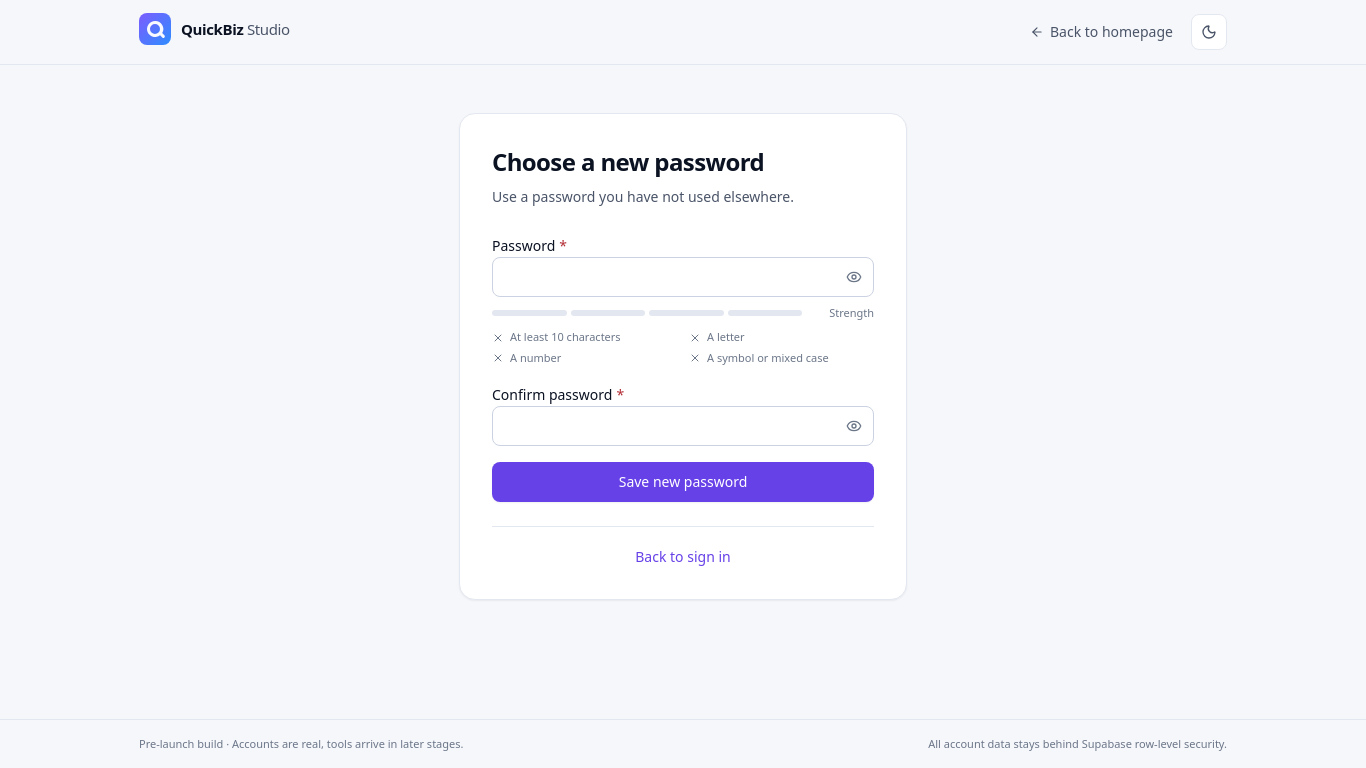
Test case: ResetPasswordPage › updates the password when a recovery session exists
Type "brand-new-pass-9" into the password field labelled "Password*" at [683, 277], box [492,257,874,297]
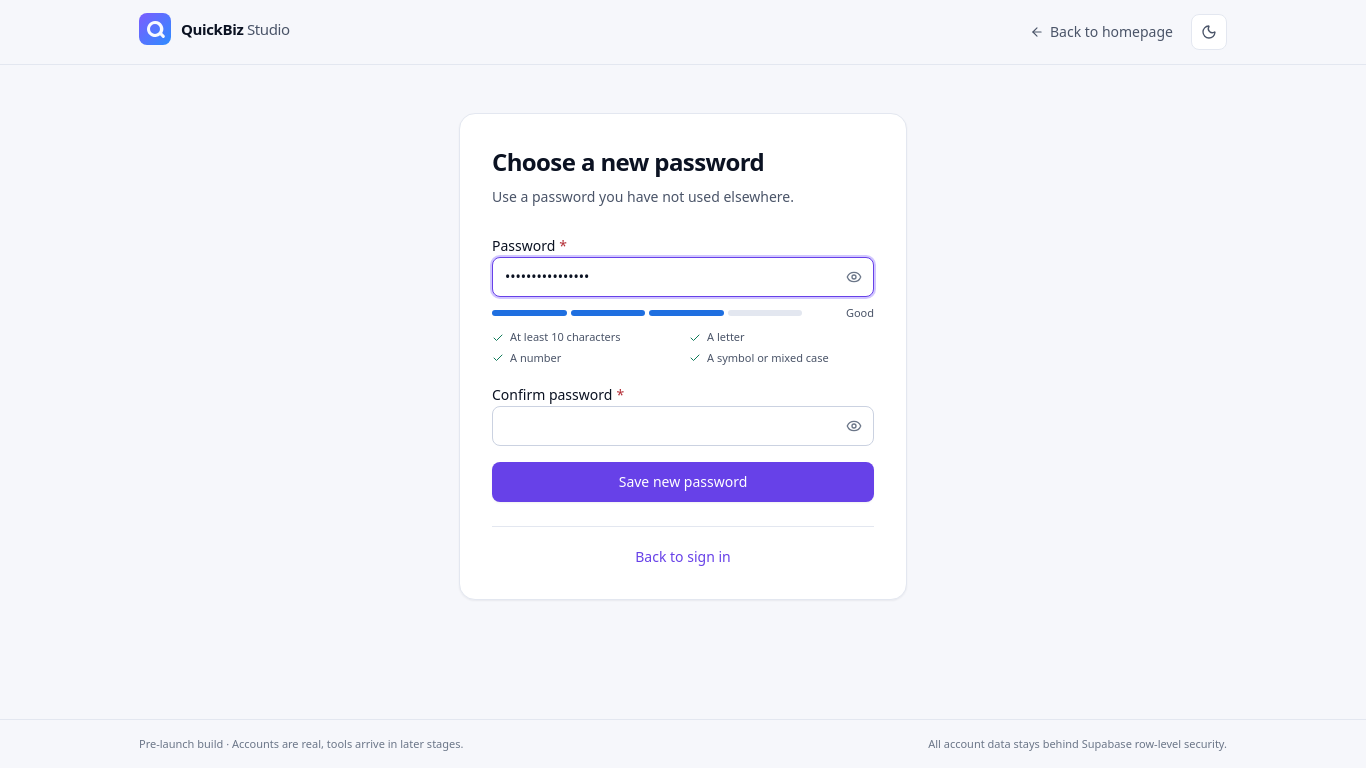
Type "brand-new-pass-9" into the password field labelled "Confirm password*" at [683, 426], box [492,406,874,446]
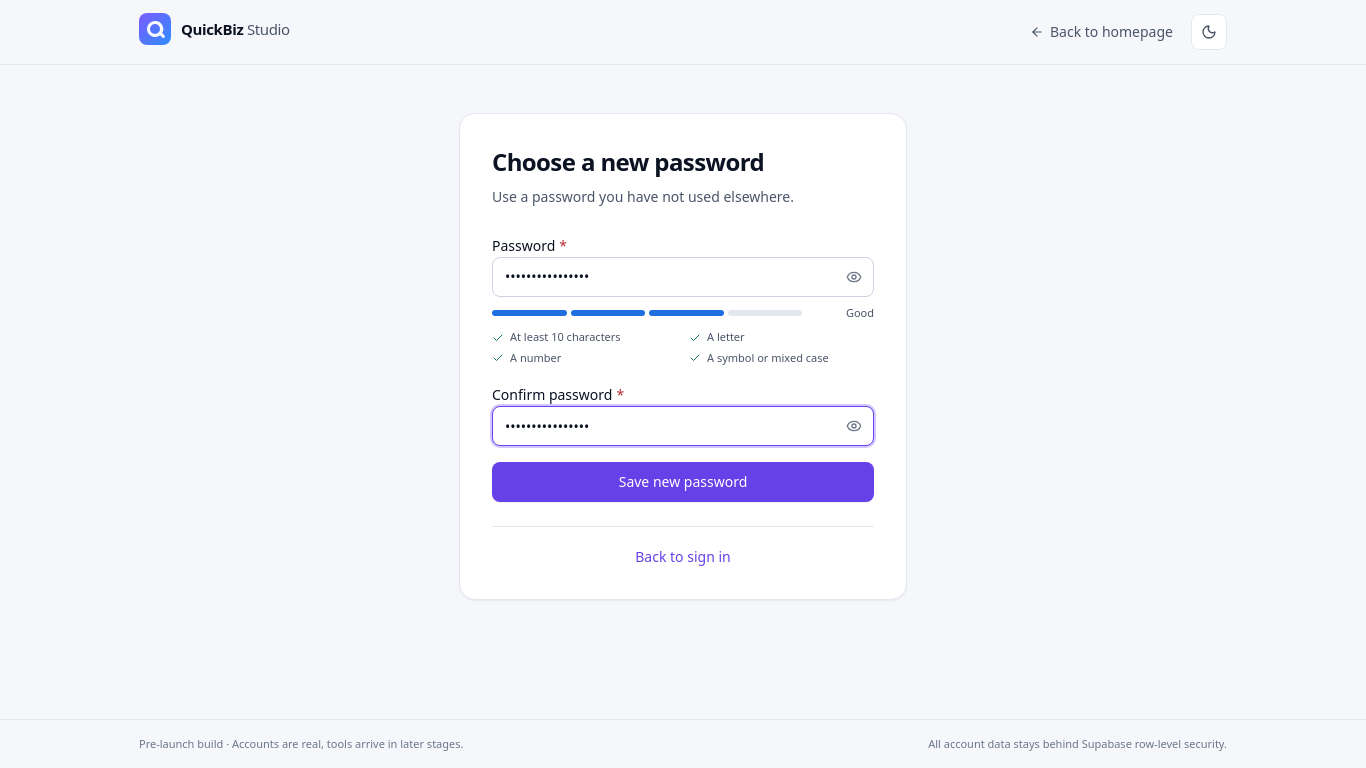
Click the button "Save new password" at [683, 482], box [492,462,874,502]
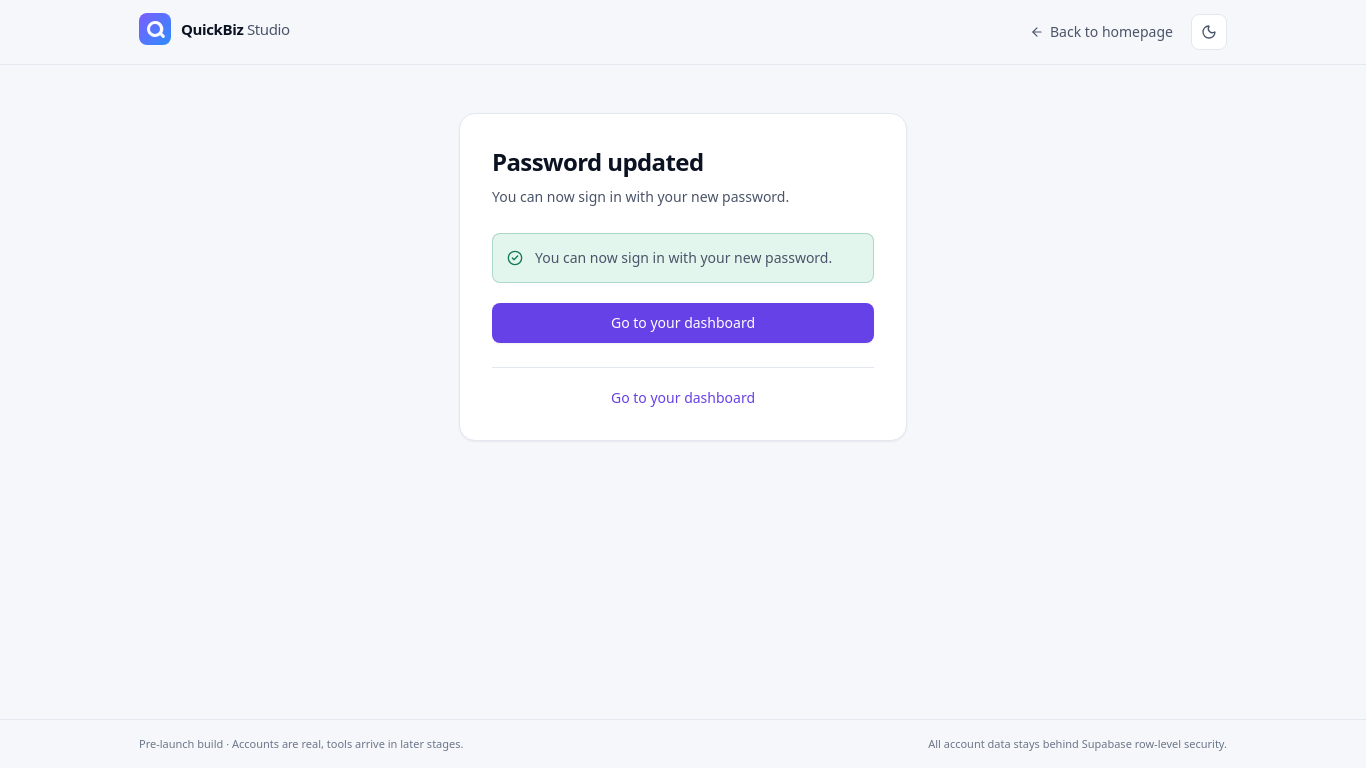
Result: the heading "Password updated" is shown at [492,145,704,178]
